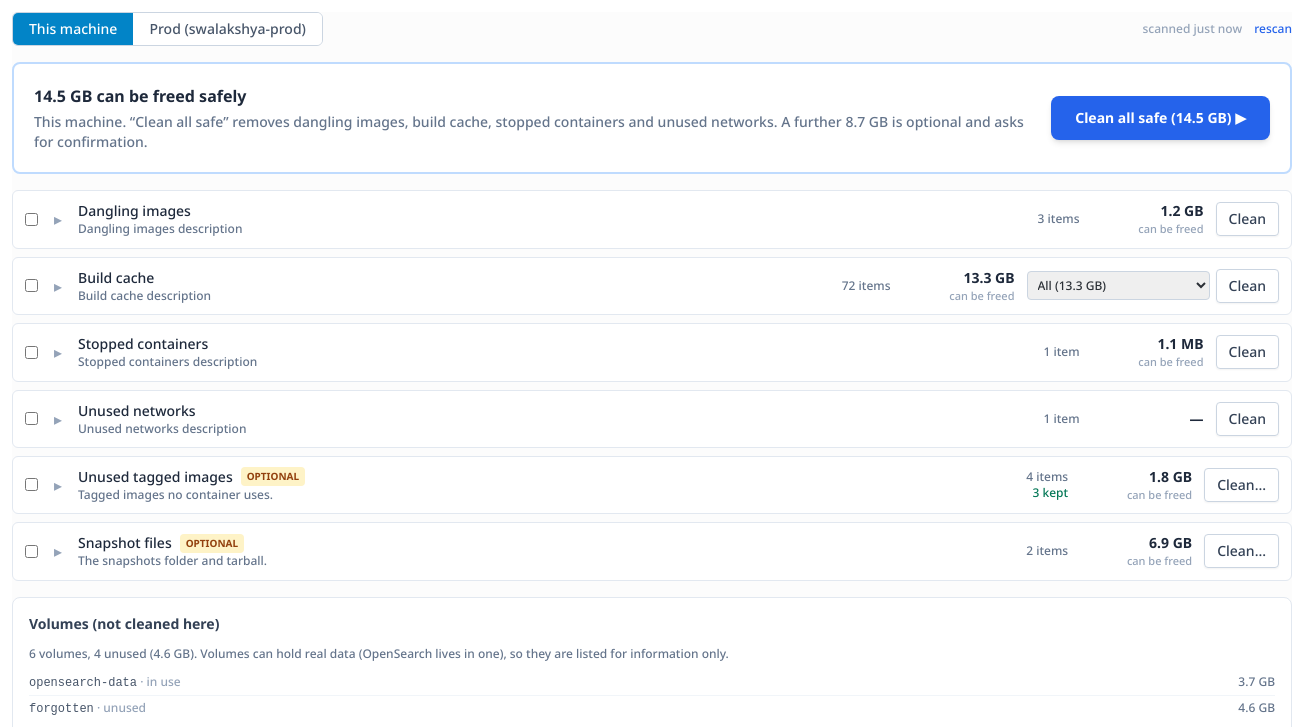
Test: the images your compose files name are shown as kept, not offered for removal
This screenshot has width=1304, height=727.
Expected: the heading "14.5 GB can be freed safely" is shown, [34,85,246,107]
Expected: the text with test id "kept-unused_images" reads "3 kept", [1032,484,1068,501]
Click the button named "Show Unused tagged images details": {"x": 58, "y": 485} [50,473,66,497]
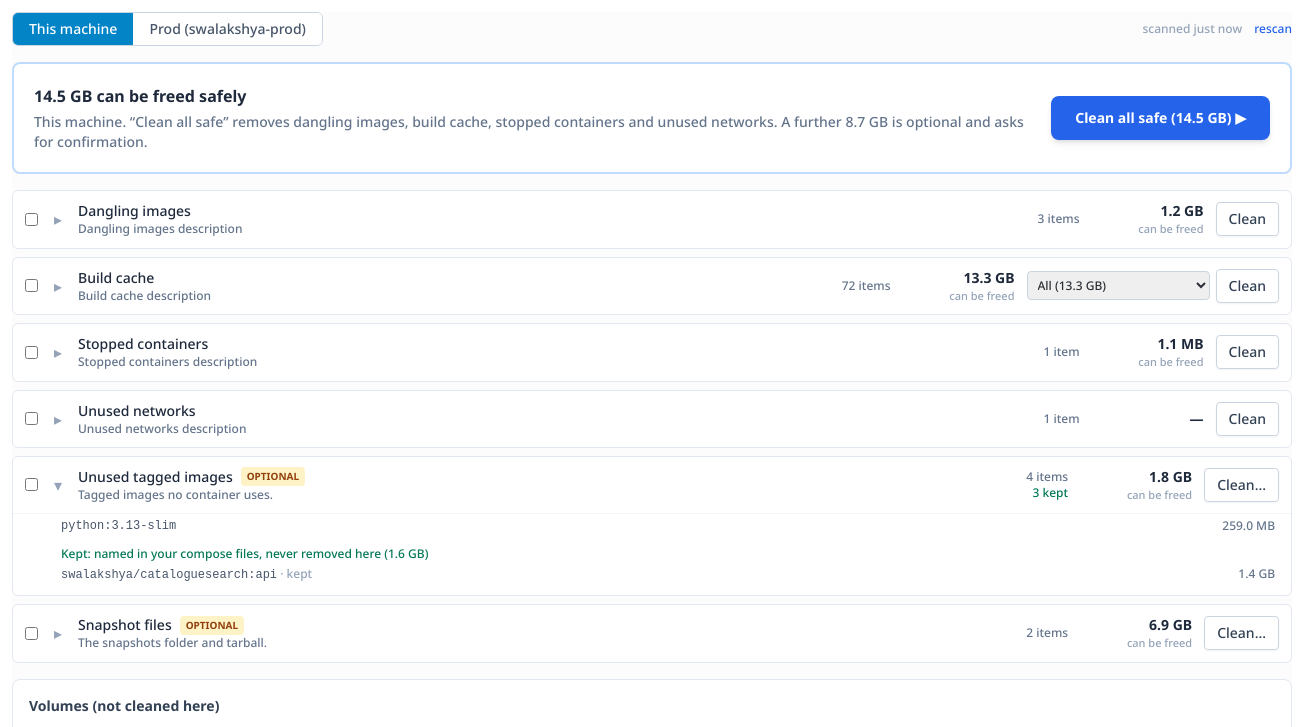
Result: the text "python:3.13-slim" is shown at [61,518,176,534]
Result: the text "named in your compose files, never removed here (1.6 GB)" is shown at [61,545,428,562]
Result: the text "swalakshya/cataloguesearch:api" is shown at [61,568,277,582]
